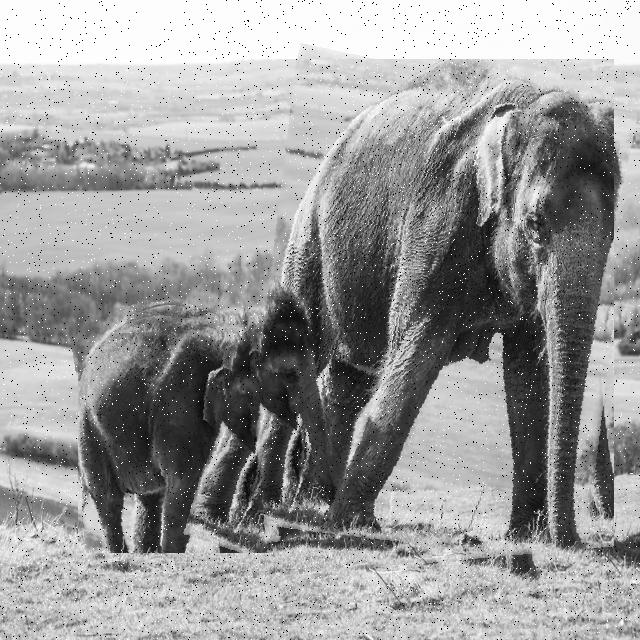elephant: (223, 59, 614, 577), (78, 306, 347, 553)
